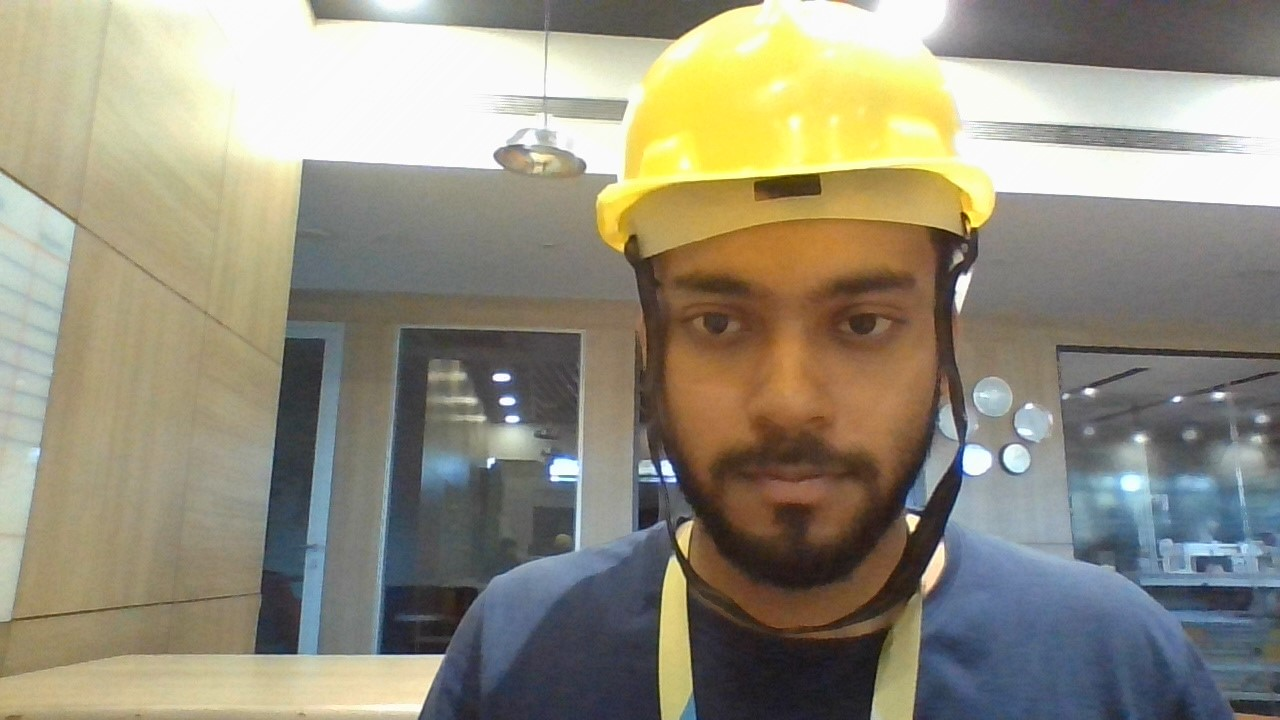Person_wearing_helmet: (569, 0, 1013, 317)
